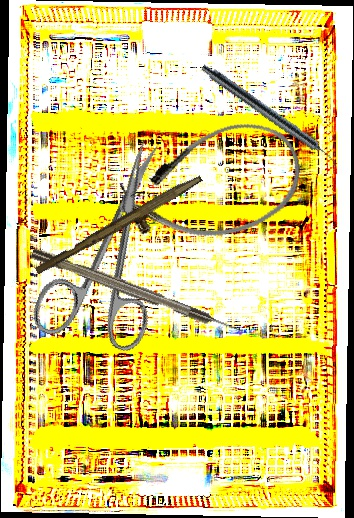Cannula: (112, 108, 315, 262)
Handpiece: (197, 61, 343, 170)
Hook Surgical: (30, 245, 245, 339)
Iris Scissors: (27, 124, 207, 366)
Scalpel Handle: (33, 169, 204, 279)
